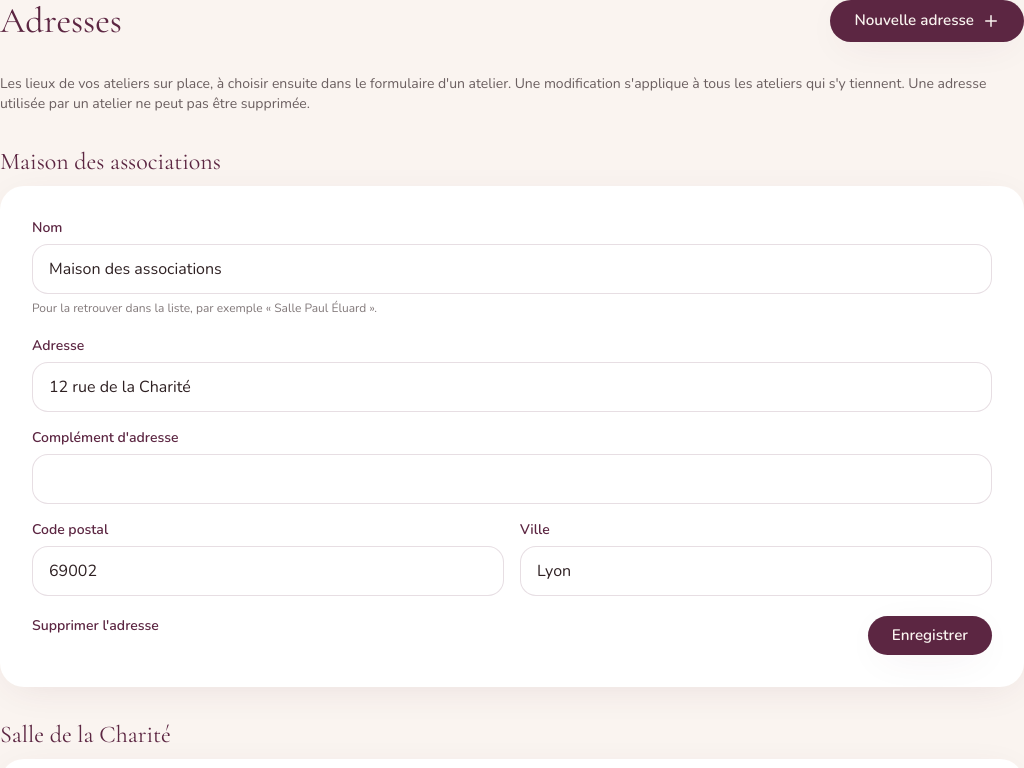
Test: AddressesEditor › shows the backend's reason when a workshop took the address meanwhile
Click the button "Supprimer l'adresse" at (95, 626), box [32, 616, 159, 636]
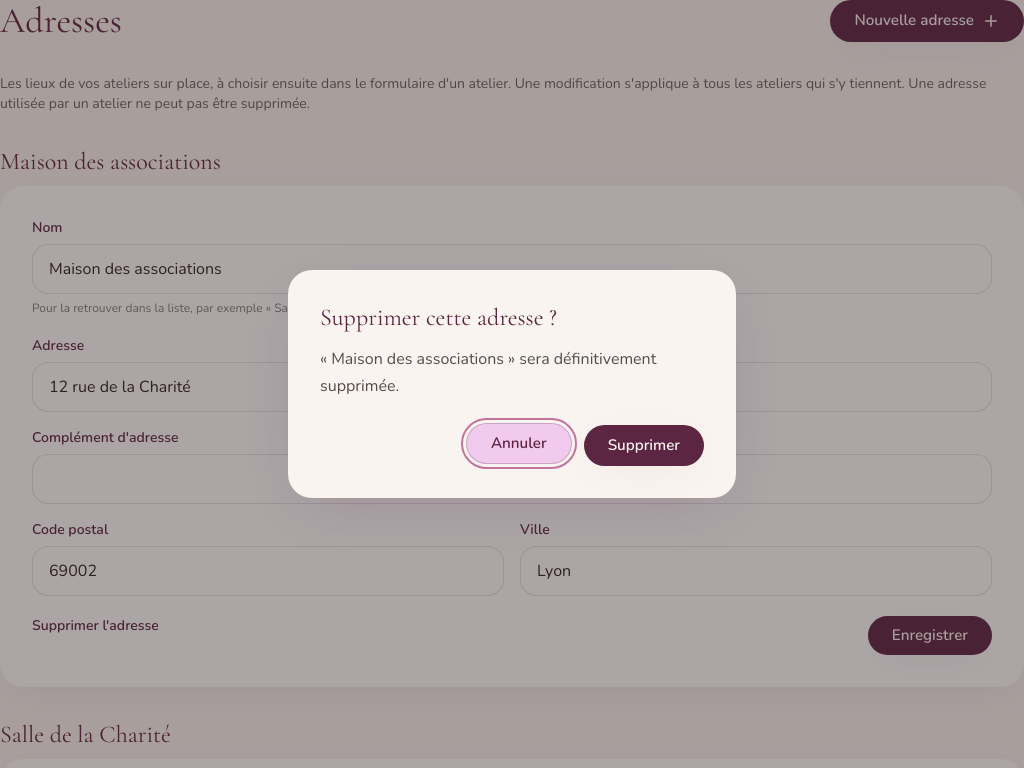
Click the button "Supprimer" at (644, 445), box [584, 425, 704, 466]
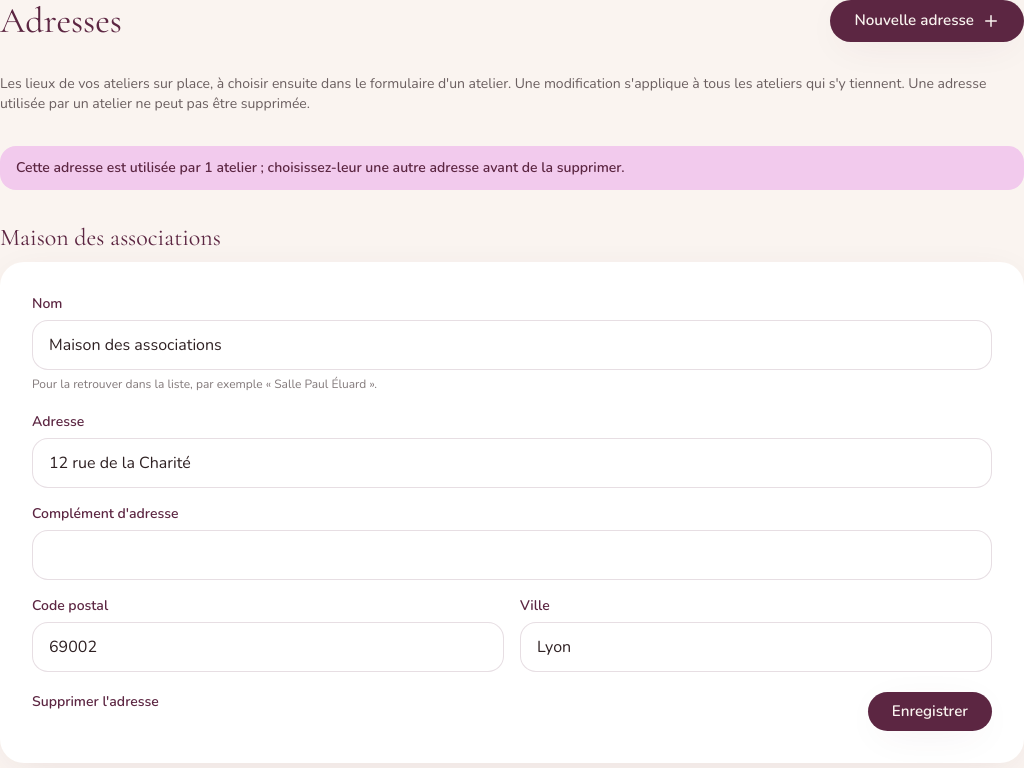
expect the text "Cette adresse est utilisée par 1 atelier ; choisissez-leur une autre adresse avant de la supprimer." is shown: met, box [16, 158, 624, 177]
